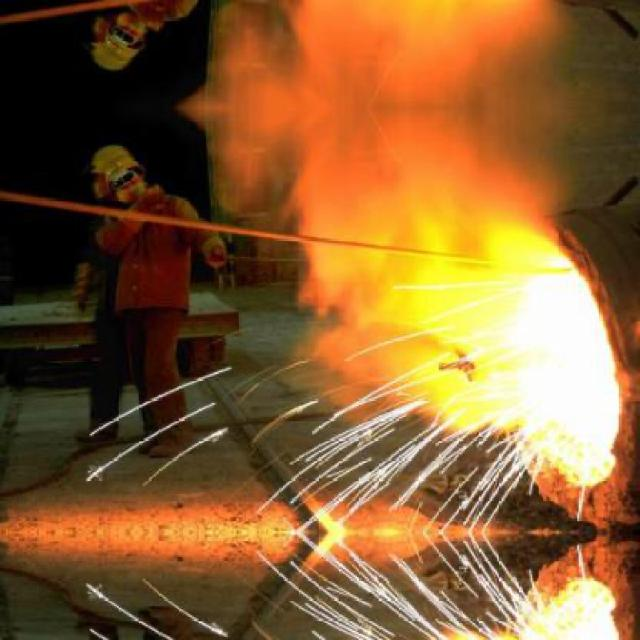con casco: (78, 127, 175, 206)
